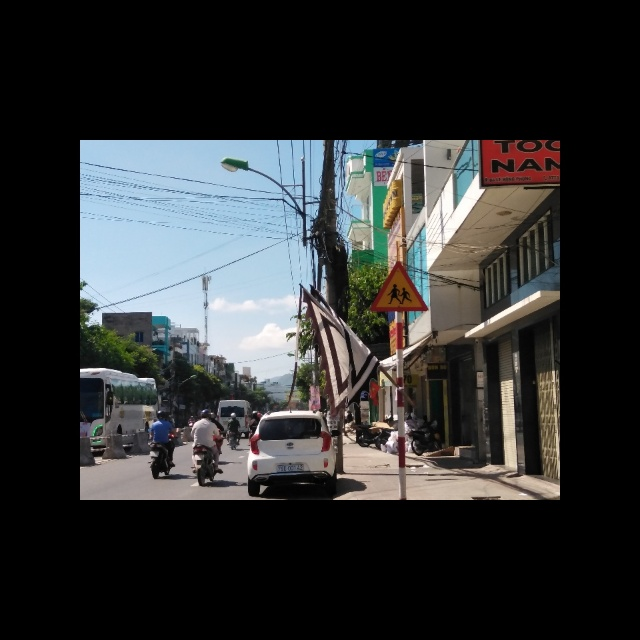Trẻ em ngang qua: (368, 257, 431, 311)
